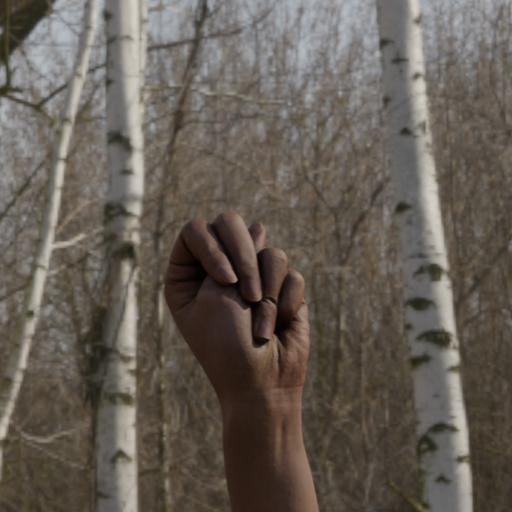N: (121, 135, 384, 456)
